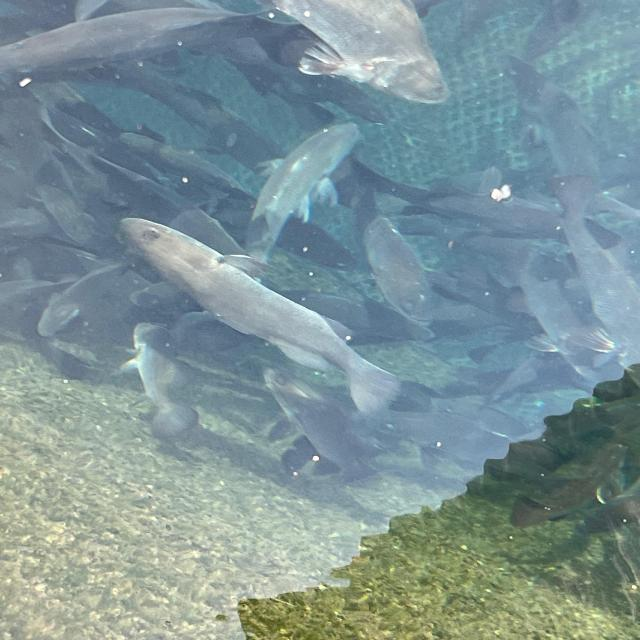ikan: (98, 189, 462, 411)
